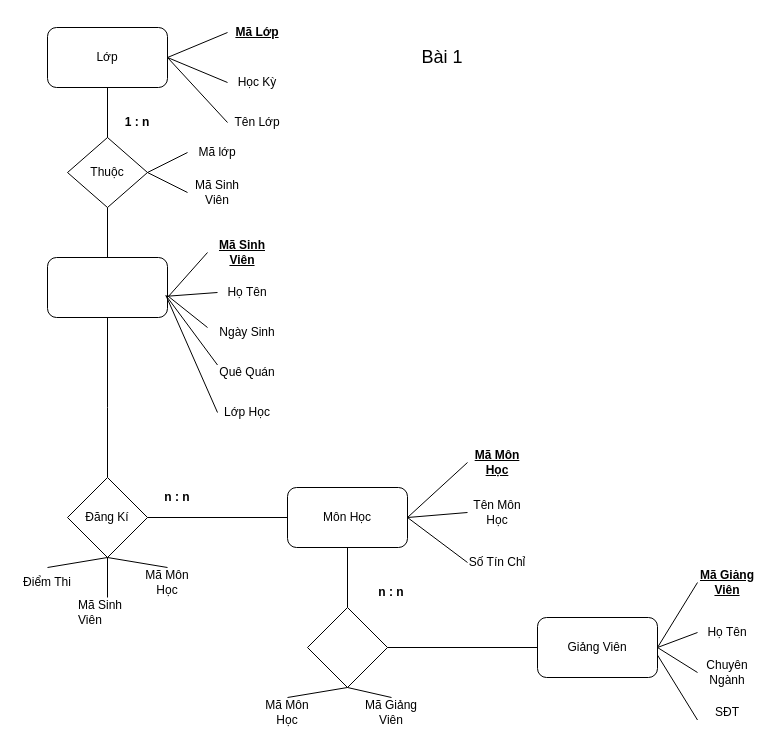
The diagram is 774 pixels wide and 744 high, and some of its shapes have lost their labels. Each missing label, with the centre of its shape:
Dạy: the point at 347,647
Sinh Viên: the point at 107,287
